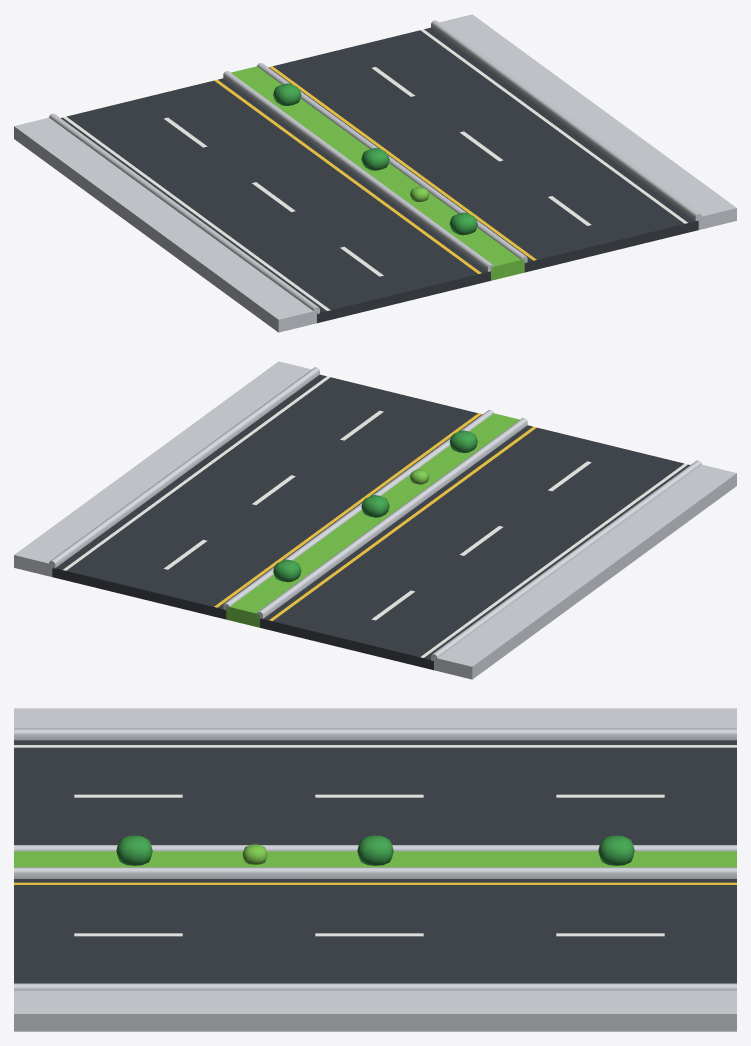
The model's file is avenida_canteiro.glb.
3 views of the same model, one above another, from view 1: azimuth 30°, elevation 25°; view 2: azimuth 150°, elevation 25°; view 3: azimuth 270°, elevation 25° (orthographic). The views are drawn at different scales.
Parts seen in each view (by area): view 1: avenida_canteiro; view 2: avenida_canteiro; view 3: avenida_canteiro.
Boxes of the visible parts, x1,y1,x2,y2 form: avenida_canteiro: [14, 14, 736, 332]; avenida_canteiro: [14, 361, 736, 679]; avenida_canteiro: [14, 708, 736, 1031].
Bounding box in the file's own units: 15 × 0.92 × 15.
1 material, 1 textured.
